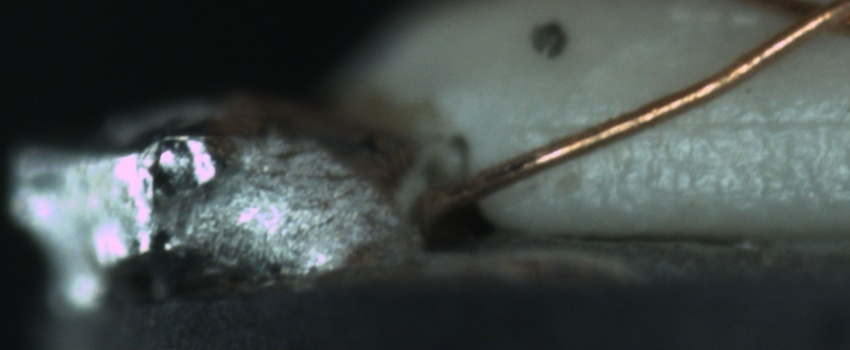CL: (773, 0, 847, 44)
DL: (534, 91, 850, 155)
